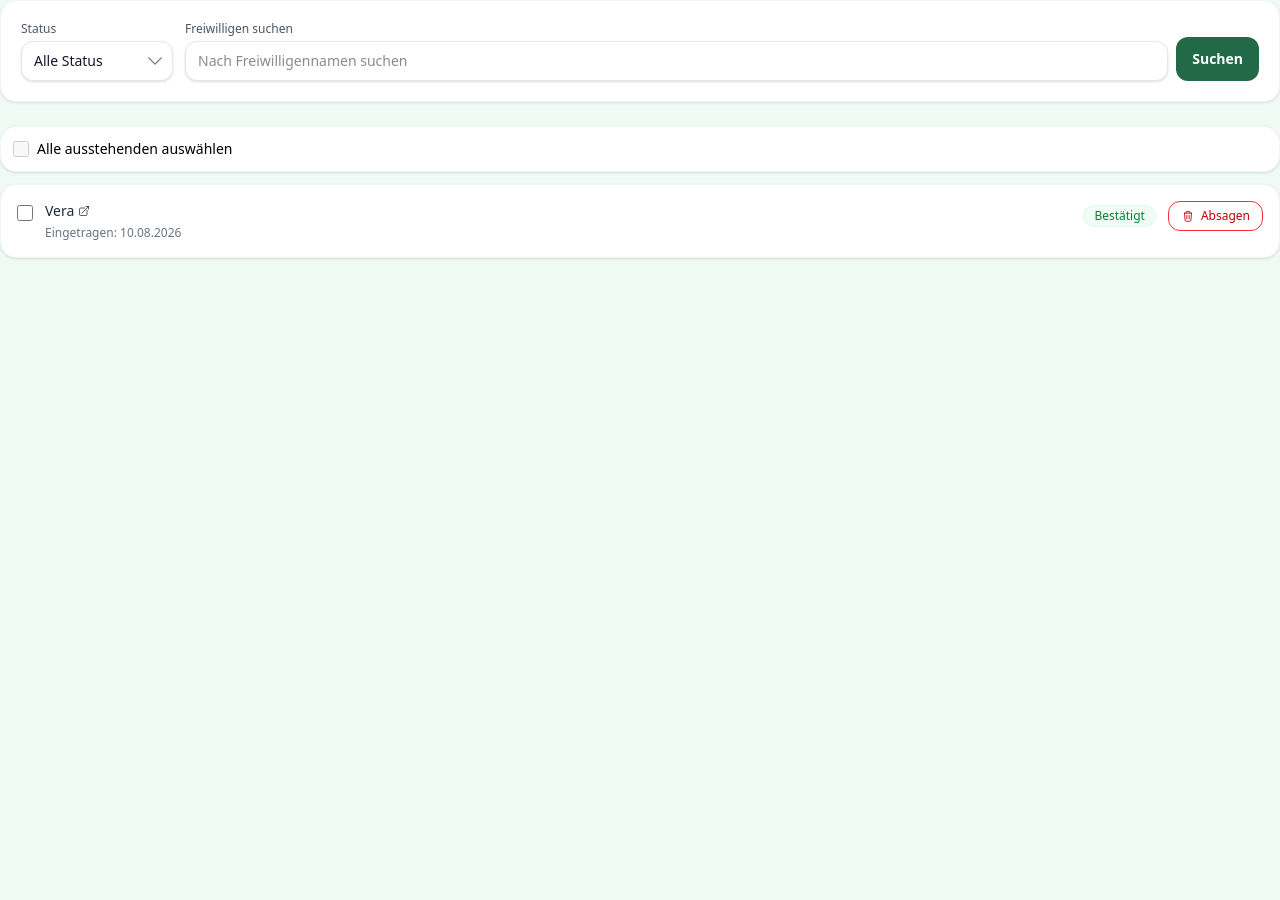
Scenario: EngagementManagementPage in German › cancels with 'absagen', never 'stornieren'
Click the button "Absagen" at coordinates (1215, 216), box [1168,201,1263,231]
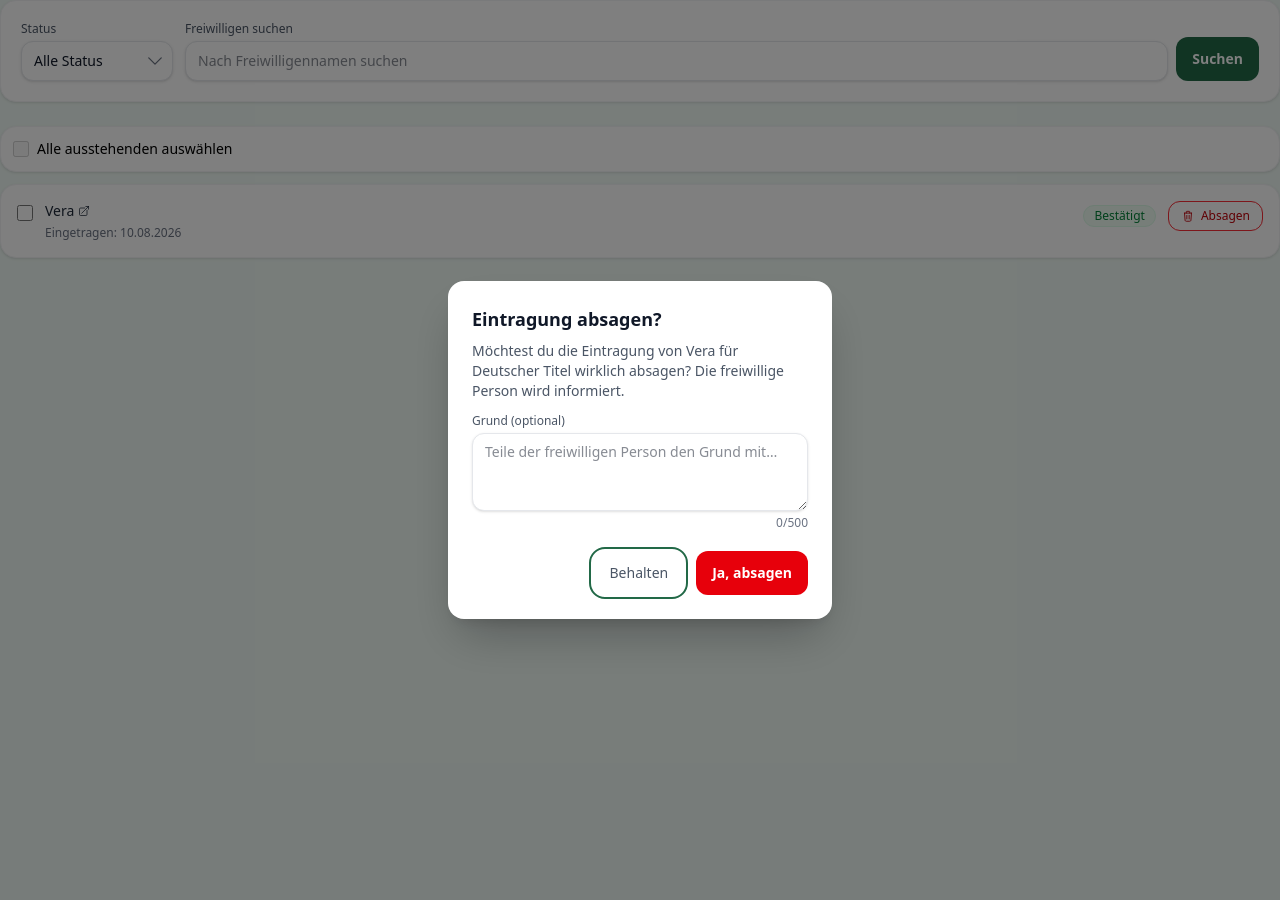
Check: the dialog is shown, box [448,281,832,619]
